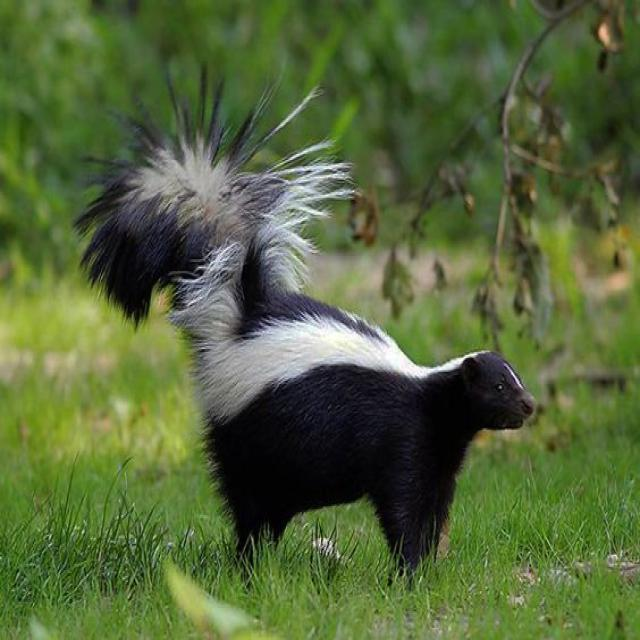Skunk: (61, 62, 558, 570)
